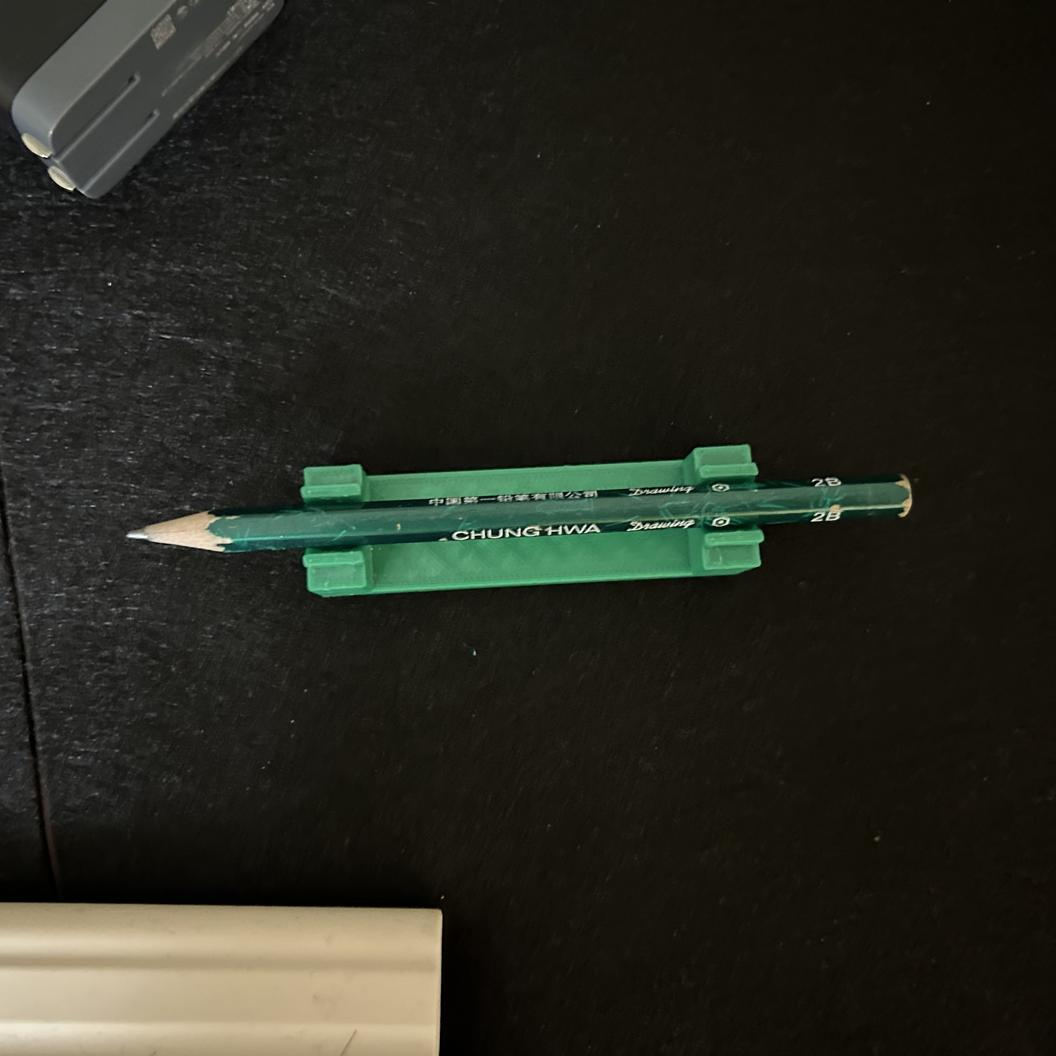X: (123, 440, 914, 598)
holder: (303, 440, 763, 598)
pencil: (123, 474, 914, 554)
